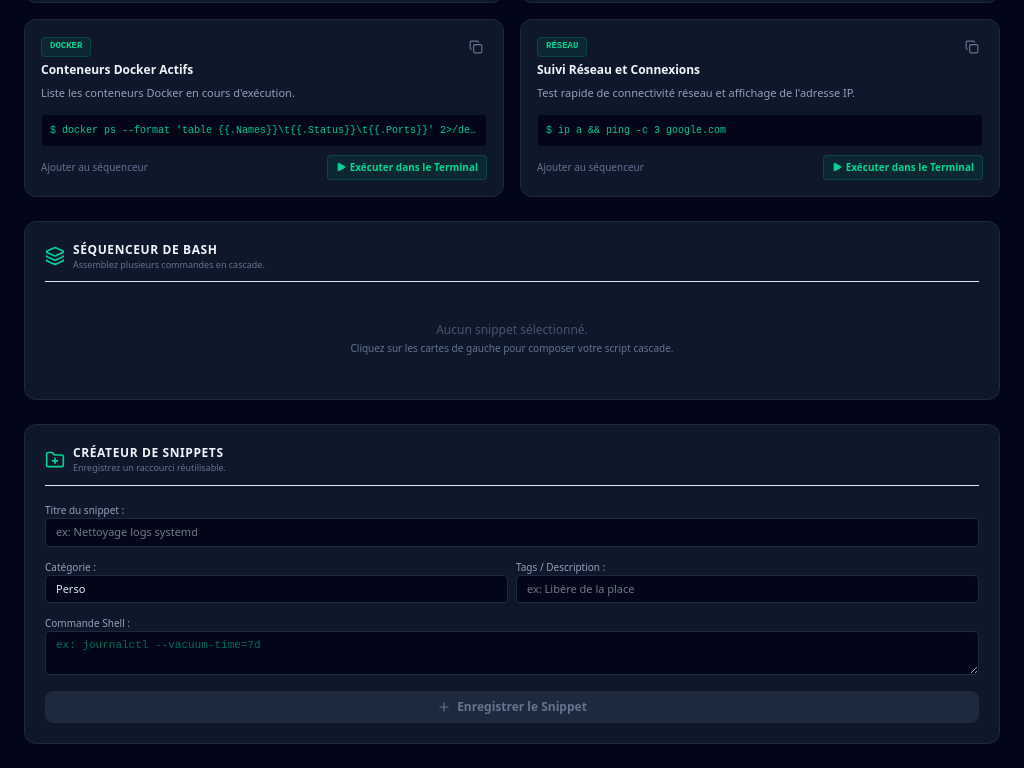
SnippetsLibrary — séquenceur et créateur › supprime un snippet personnalisé
(page scrolled)
# Créer un snippet custom d'abord
Type "À Supprimer" into the field with placeholder "ex: Nettoyage logs systemd" at (512, 532), box [45,518,979,547]
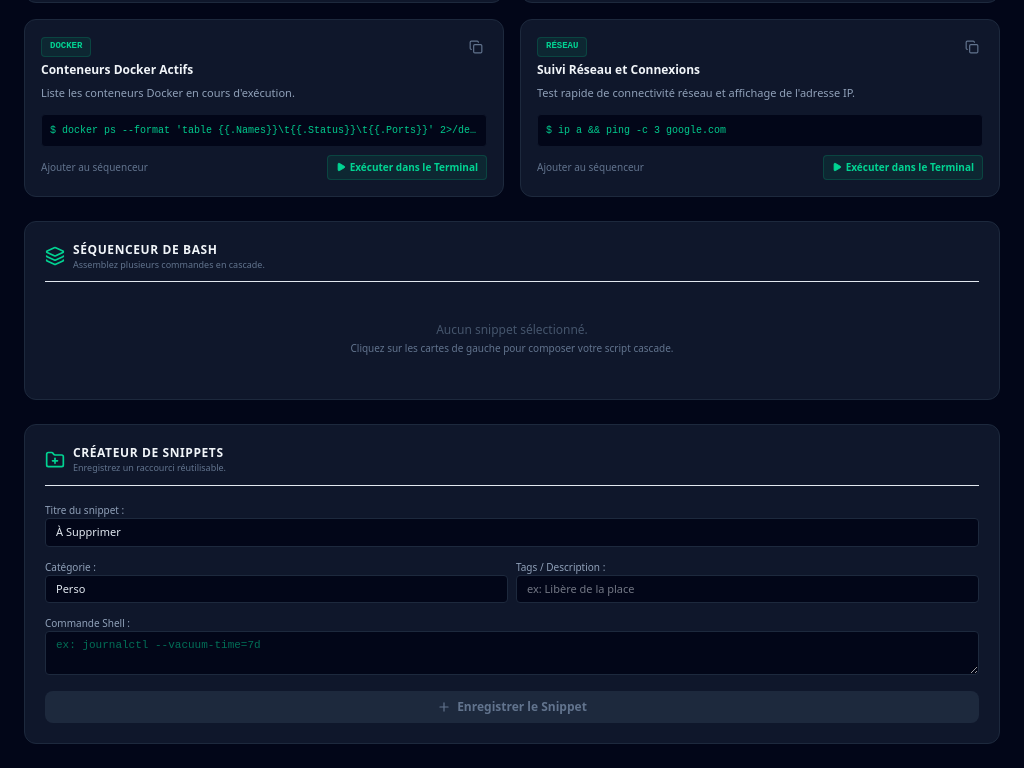
Type "echo x" into the text box with placeholder "ex: journalctl --vacuum-time=7d" at (512, 653), box [45,631,979,675]
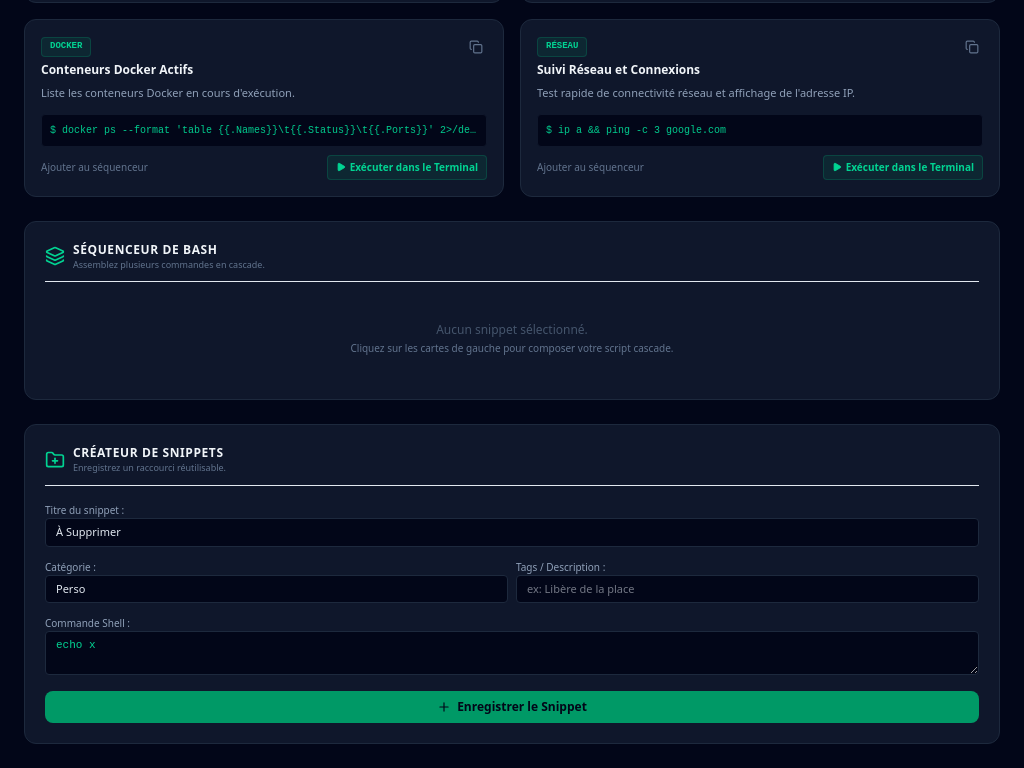
Click the button "Enregistrer le Snippet" at (512, 707), box [45,691,979,723]
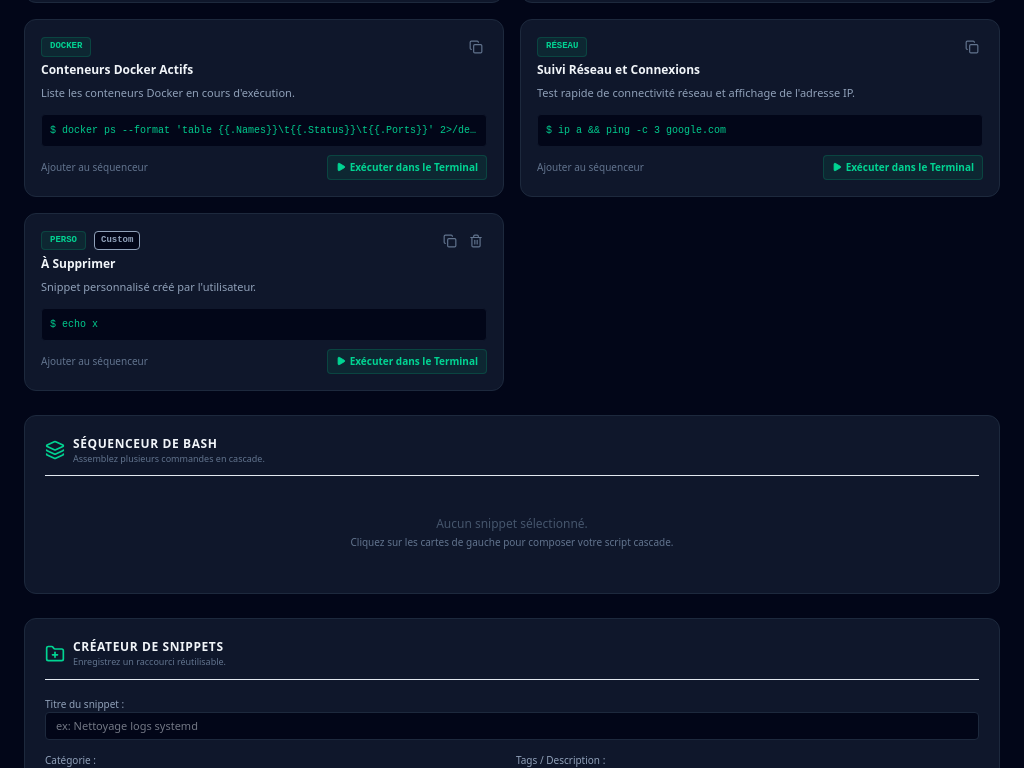
Result: the heading "À Supprimer" is shown at [41,255,116,272]
Result: the button titled "Supprimer" is shown
Click the button titled "Supprimer" at (476, 241), box [465,230,487,252]
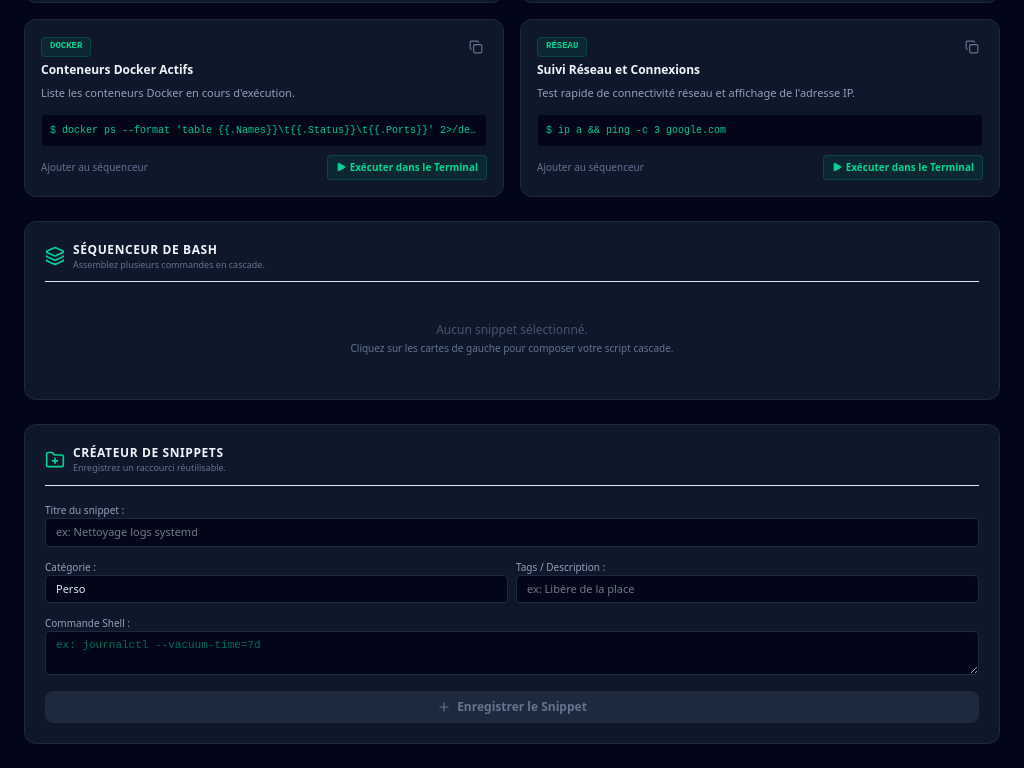
Result: the heading "À Supprimer" is gone
